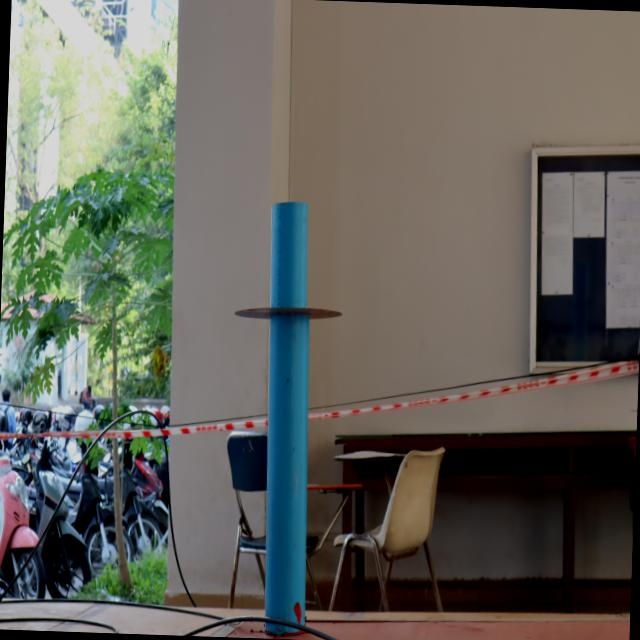pole: (228, 200, 354, 408)
